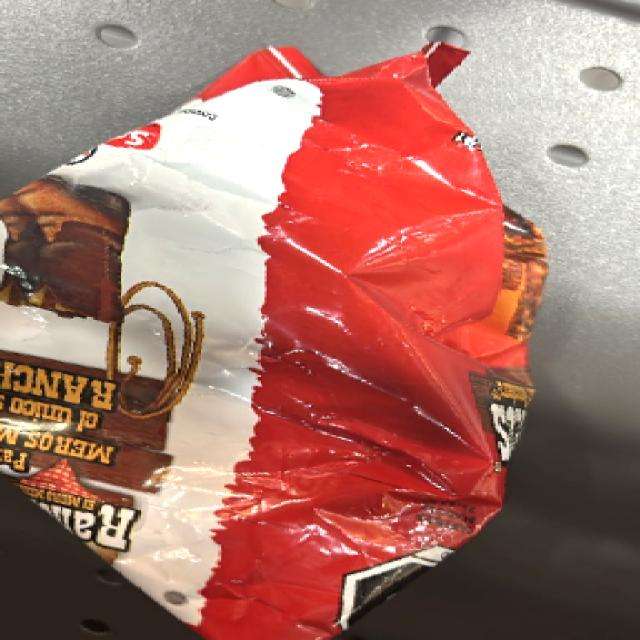productoAtras: (0, 112, 236, 573)
